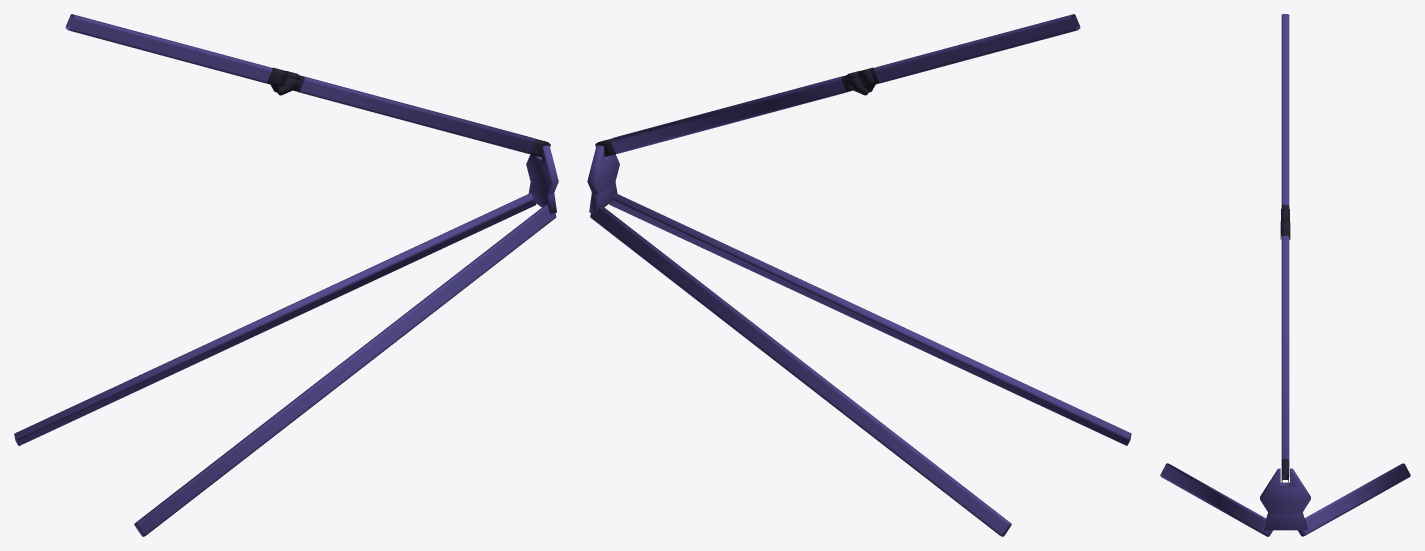
File: Miroir secondaire.fbx
The picture shows the model from 3 angles, left to right: view 1: azimuth 30°, elevation 25°; view 2: azimuth 150°, elevation 25°; view 3: azimuth 270°, elevation 25°; orthographic projection. The views are drawn at different scales.
Parts seen in each view (by area): view 1: Miroir_secondaire; view 2: Miroir_secondaire; view 3: Miroir_secondaire.
Part boxes in pixels (x1,y1,x2,y2): Miroir_secondaire: (14,14,558,536); Miroir_secondaire: (587,14,1131,536); Miroir_secondaire: (1160,14,1410,536).
Bounding box in the file's own units: 720 × 682 × 335.
